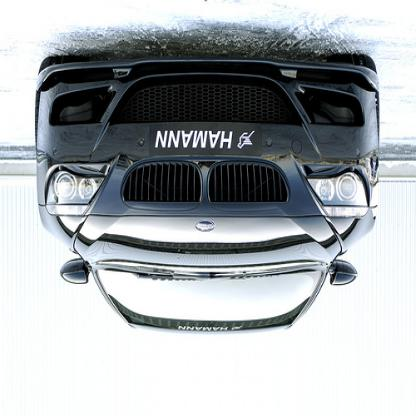car: (36, 54, 384, 337)
